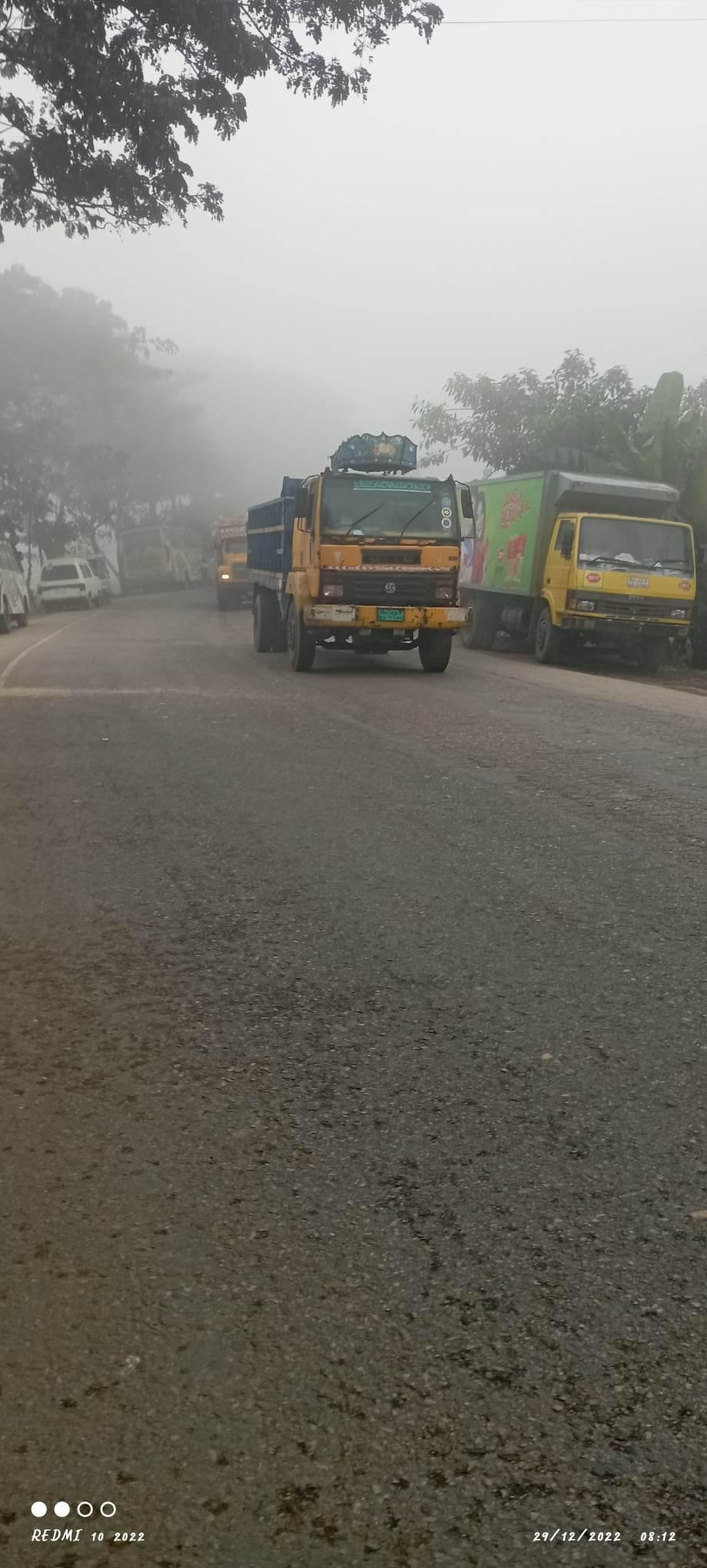Car: (35, 527, 121, 623)
Truck: (242, 424, 480, 681), (467, 457, 705, 687), (197, 507, 283, 630)
